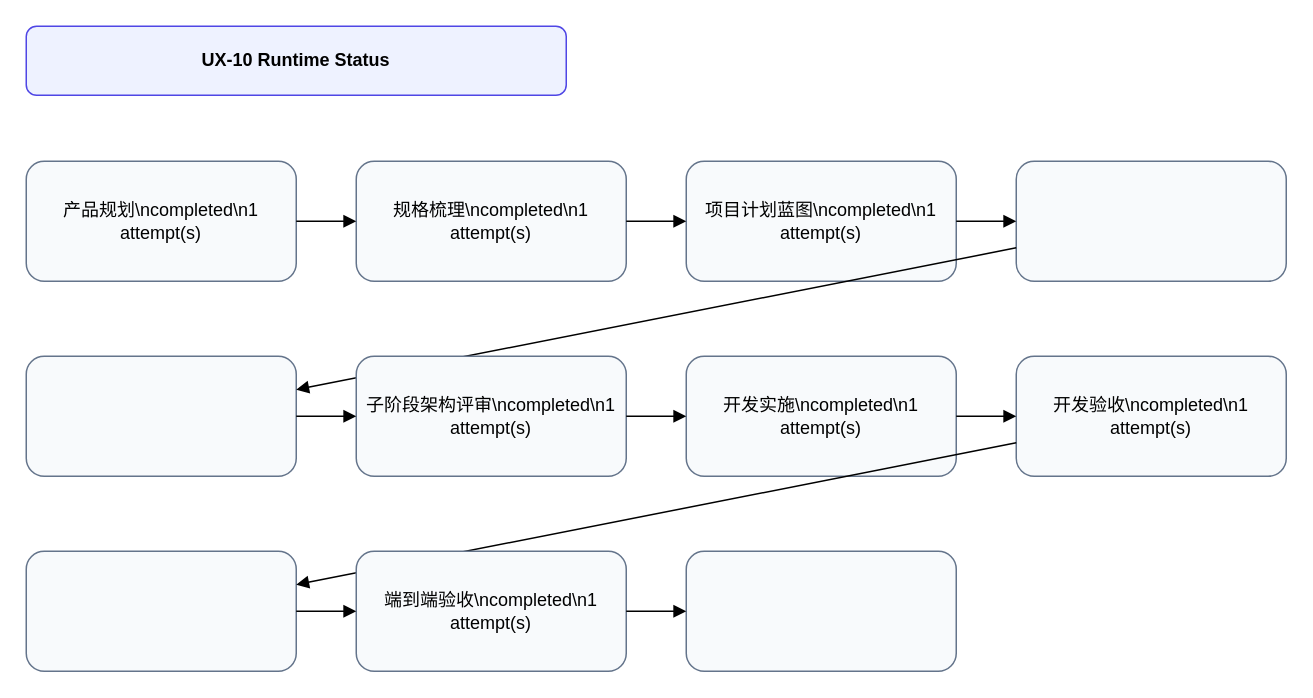
Some shapes in this 1313 by 698 pixel diagram are drawn without their labels. The shapes that lost their labels are listed below. From the top down, each one's box as (x1, y1, x2, y2) in pixels, then its label:
(1015, 160, 1286, 281): 总架构评审\ncompleted\n1 attempt(s)
(25, 355, 296, 476): 子阶段计划审计\ncompleted\n1 attempt(s)
(25, 550, 296, 671): 代码检视\ncompleted\n2 attempt(s)
(685, 550, 956, 671): 人工确认\ncompleted\n1 attempt(s)
